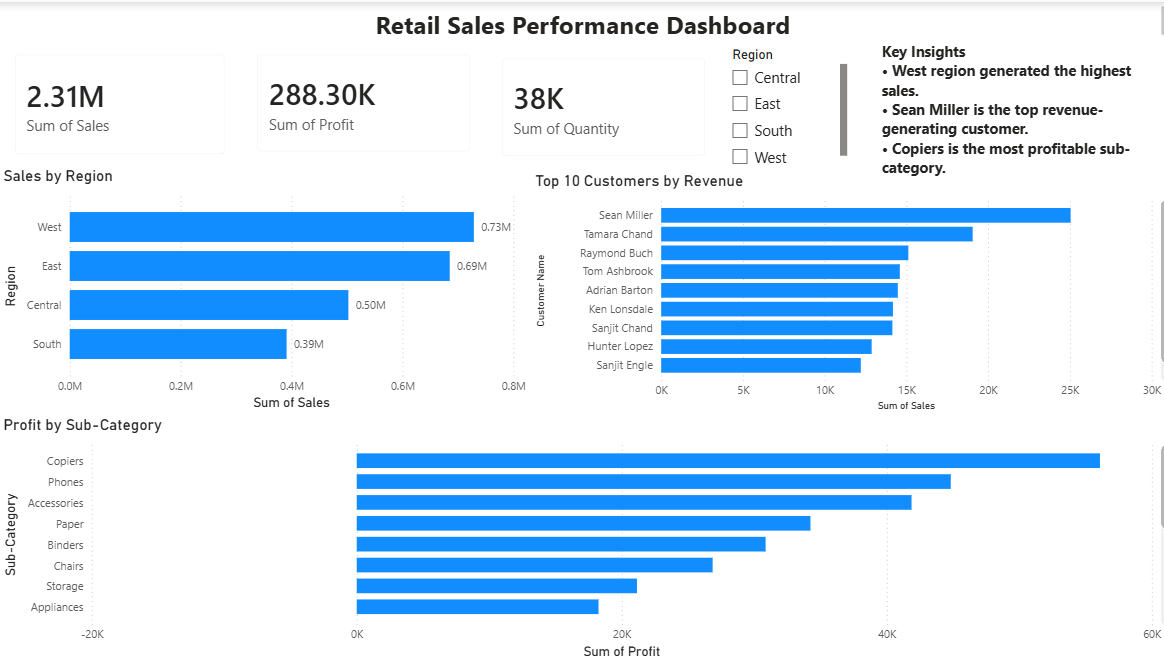

The page's visual inventory and layout, read from the dashboard file:
{"tool":"powerbi","page":{"name":"Page 1","canvas":[1280,720],"ordinal":0},"visuals":[{"type":"cardVisual","fields":{"Data":["Sum(Cleaned_Data.Sales)"]},"box":[0,40,263.3,143.3],"z":0},{"type":"cardVisual","fields":{"Data":["Sum(Cleaned_Data.Profit)"]},"box":[263.3,40,266.7,140],"z":1000},{"type":"clusteredBarChart","title":"Sales by Region","fields":{"Category":["Cleaned_Data.Region"],"Y":["Sum(Cleaned_Data.Sales)"]},"box":[0,180,580,270],"z":2000},{"type":"clusteredBarChart","title":"Top 10 Customers by Revenue","fields":{"Category":["Cleaned_Data.Customer Name"],"Y":["Sum(Cleaned_Data.Sales)"]},"box":[580,183.3,700,266.7],"z":3000},{"type":"textbox","box":[0,0,1280,43.3],"z":4000},{"type":"cardVisual","fields":{"Data":["Sum(Cleaned_Data.Quantity)"]},"box":[530,43.3,256.7,140],"z":5000},{"type":"clusteredBarChart","title":"Profit by Sub-Category","fields":{"Category":["Cleaned_Data.Sub-Category"],"Y":["Sum(Cleaned_Data.Profit)"]},"box":[0,450,1280,270],"z":6000},{"type":"slicer","fields":{"Values":["Cleaned_Data.Region"]},"box":[786.7,43.3,143.3,140],"z":7000},{"type":"textbox","box":[956.7,36.7,323.3,173.3],"z":8000}]}

Visuals, with their boxes in screenshot pixels (x1, y1, x2, y2), scaled from the page's 1280x720 canvas onto the 1164x662 screenshot:
cardVisual - Sum(Cleaned_Data.Sales): region(0, 37, 239, 169)
cardVisual - Sum(Cleaned_Data.Profit): region(239, 37, 482, 166)
"Sales by Region" clusteredBarChart: region(0, 166, 527, 414)
"Top 10 Customers by Revenue" clusteredBarChart: region(527, 169, 1163, 414)
textbox: region(0, 0, 1163, 40)
cardVisual - Sum(Cleaned_Data.Quantity): region(482, 40, 715, 169)
"Profit by Sub-Category" clusteredBarChart: region(0, 414, 1163, 661)
slicer - Cleaned_Data.Region: region(715, 40, 846, 169)
textbox: region(870, 34, 1163, 193)
